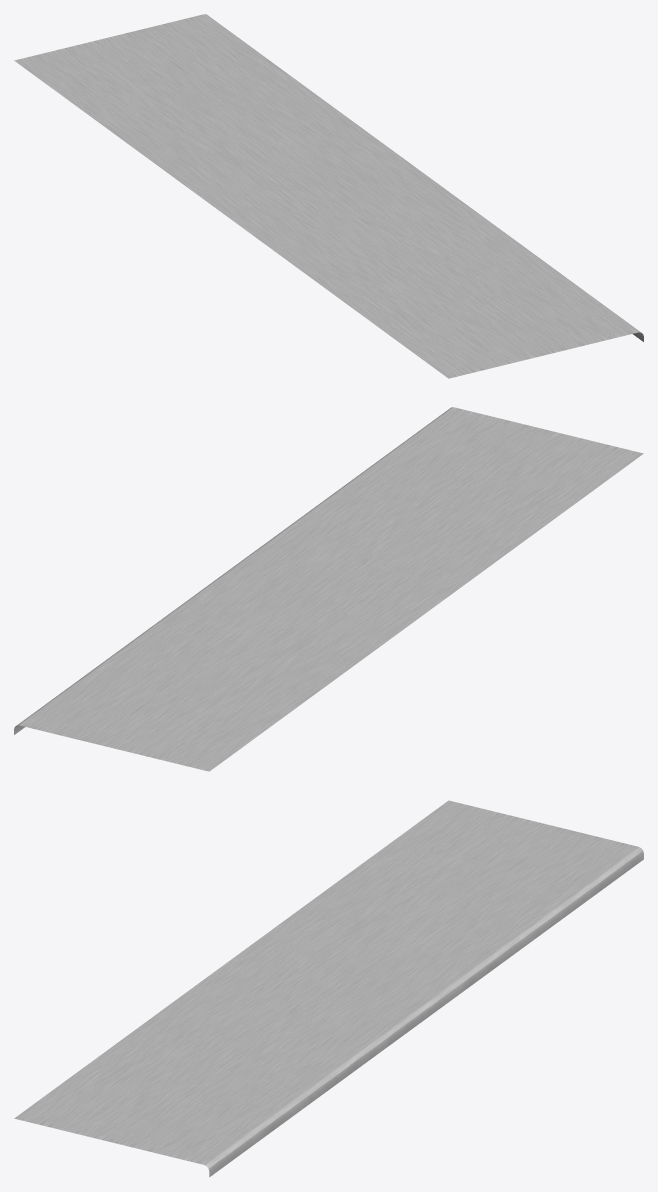
Rendered from Road_Concrete_Straight.fbx.
The picture shows the model from 3 angles, top to bottom: view 1: azimuth 30°, elevation 25°; view 2: azimuth 150°, elevation 25°; view 3: azimuth 330°, elevation 25°; orthographic projection.
Parts seen in each view (by area): view 1: polySurface6; view 2: polySurface6; view 3: polySurface6.
Boxes of the visible parts, bbox=[...] form: polySurface6: bbox=[14, 14, 643, 378]; polySurface6: bbox=[14, 407, 643, 771]; polySurface6: bbox=[14, 800, 643, 1177].
Bounding box in the file's own units: 18.03 × 1 × 69.5.
1 material, 1 textured.
